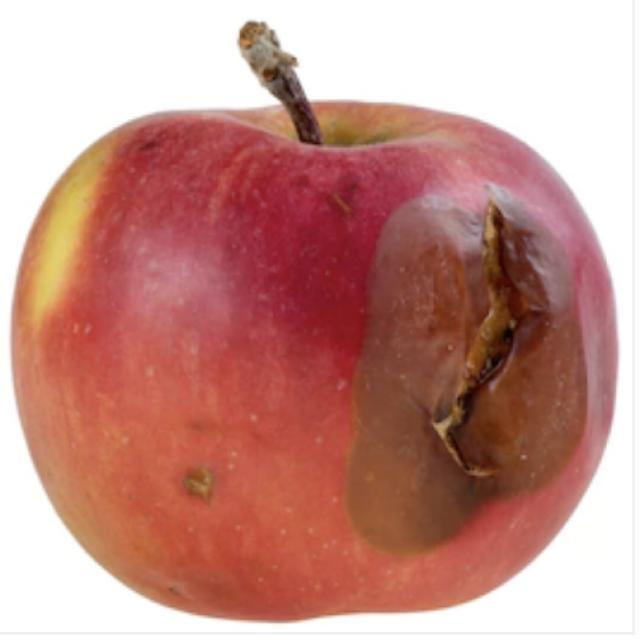Rotten: (0, 87, 618, 619)
